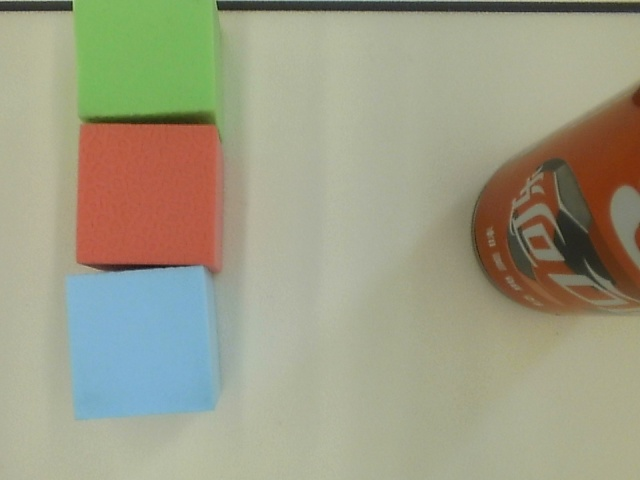bluecube: (50, 264, 243, 421)
cola: (465, 73, 640, 344)
greencube: (58, 1, 233, 128)
redcube: (55, 119, 239, 273)
